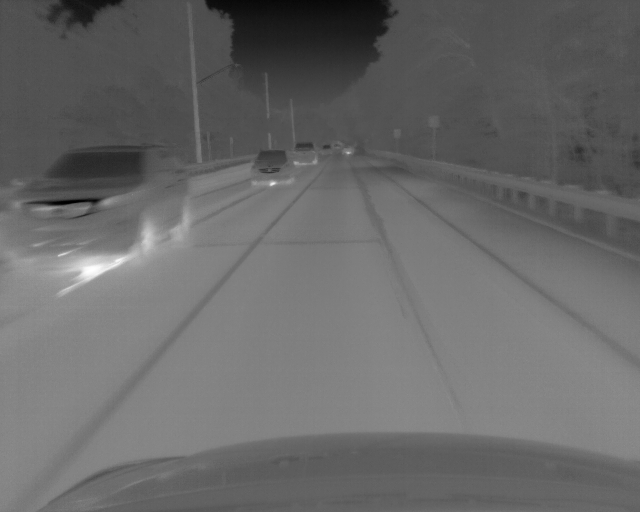car: (1, 143, 194, 271), (250, 149, 293, 186), (291, 142, 318, 167), (340, 144, 354, 157), (321, 144, 332, 155)
